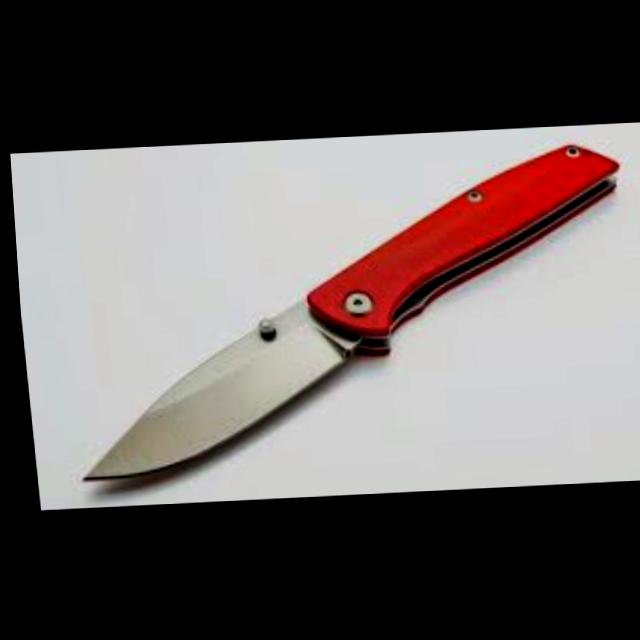Knife: (44, 139, 640, 481)
